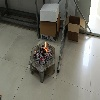fire: (43, 41, 48, 53), (34, 50, 36, 53)
